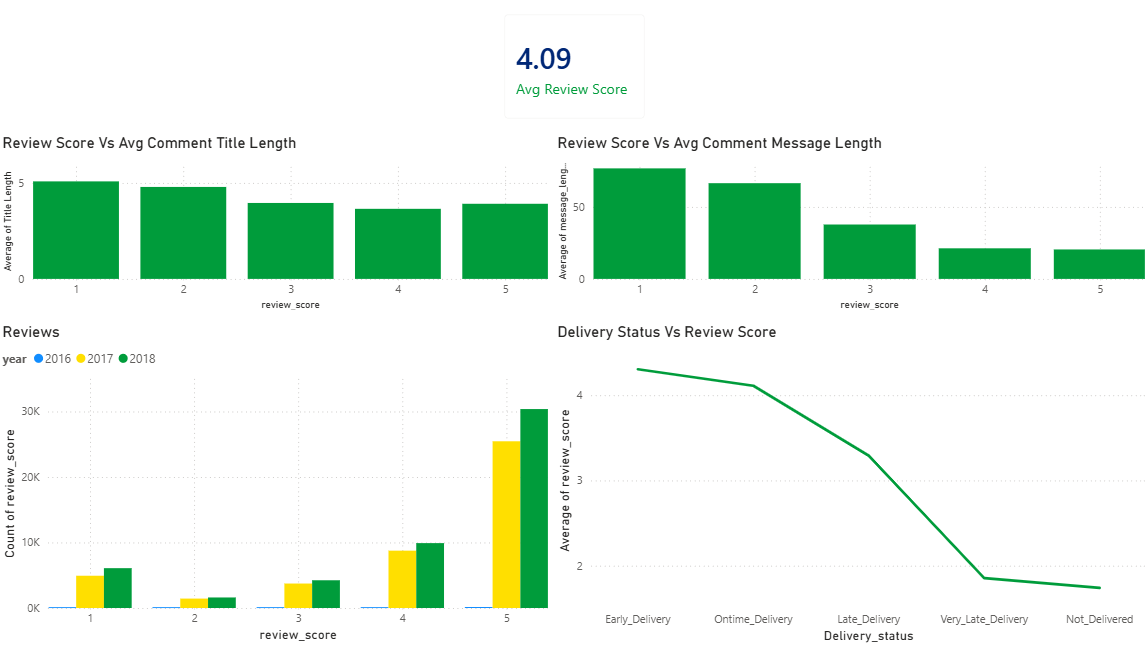

This screenshot's page, from the dashboard's own definition file:
{"tool":"powerbi","page":{"name":"Review Behaviour","canvas":[1280,720],"ordinal":3},"visuals":[{"type":"clusteredColumnChart","title":"Reviews","fields":{"Category":["Gold fact_reviews.review_score"],"Y":["CountNonNull(Gold fact_reviews.review_score)"],"Series":["Gold dim_date.year"]},"box":[0,360,616.2,360],"z":0},{"type":"lineChart","title":"Delivery Status Vs Review Score","fields":{"Category":["Gold dim_order.delivery_status"],"Y":["Avg(Gold fact_reviews.review_score)"]},"box":[616.2,360,663.8,360],"z":1000},{"type":"cardVisual","fields":{"Data":["Gold fact_reviews.Avg Review Score"]},"box":[545,0,190,150],"z":2000},{"type":"columnChart","title":"Review Score Vs Avg Comment Title Length","fields":{"Category":["Gold fact_reviews.review_score"],"Y":["Avg(Gold fact_reviews.title_length)"]},"box":[0,150,616.2,200],"z":3000},{"type":"columnChart","title":"Review Score Vs Avg Comment Message Length","fields":{"Category":["Gold fact_reviews.review_score"],"Y":["Avg(Gold fact_reviews.message_length)"]},"box":[616.2,150,663.8,200],"z":4000}]}

Visuals, with their boxes in screenshot pixels (x1, y1, x2, y2), scaled from the page's 1280x720 canvas onto the 1147x645 screenshot:
"Reviews" clusteredColumnChart: BBox(0, 322, 552, 644)
"Delivery Status Vs Review Score" lineChart: BBox(552, 322, 1146, 644)
cardVisual - Gold fact_reviews.Avg Review Score: BBox(488, 0, 659, 134)
"Review Score Vs Avg Comment Title Length" columnChart: BBox(0, 134, 552, 314)
"Review Score Vs Avg Comment Message Length" columnChart: BBox(552, 134, 1146, 314)
